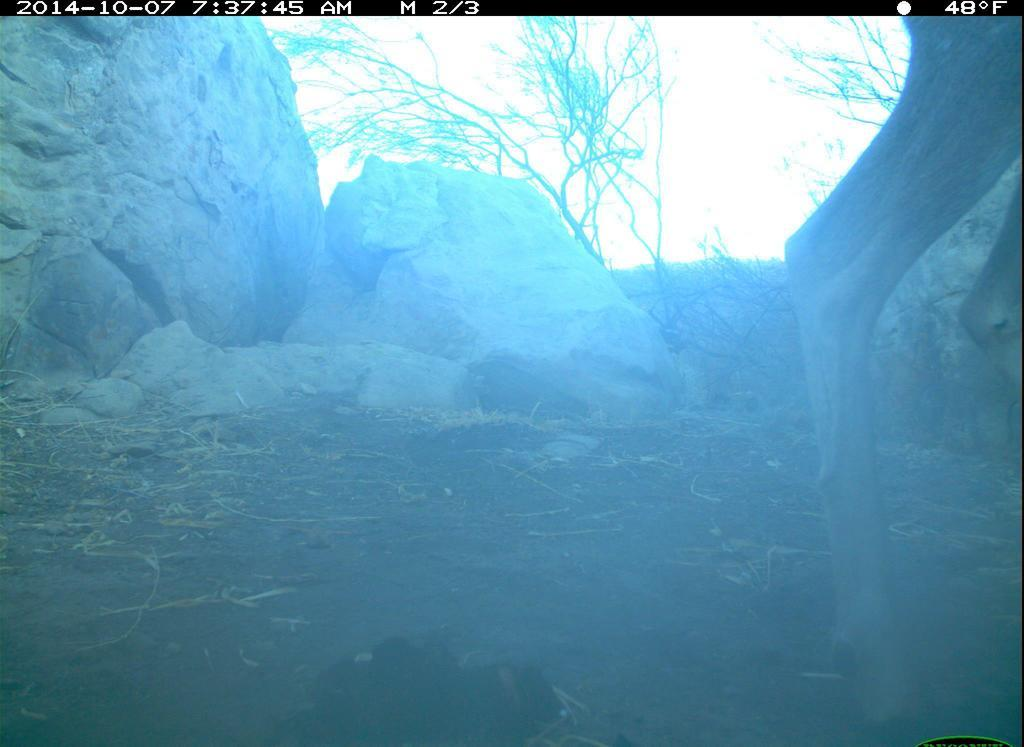deer: (770, 18, 1022, 730)
